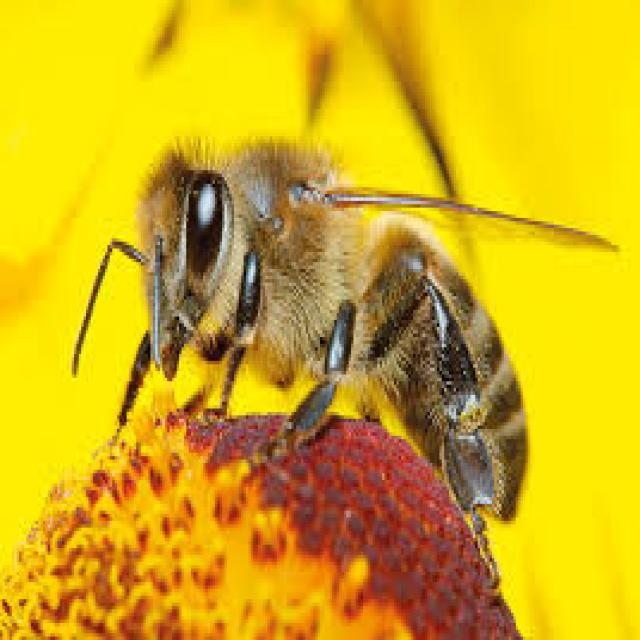Bees: (71, 139, 623, 571)
